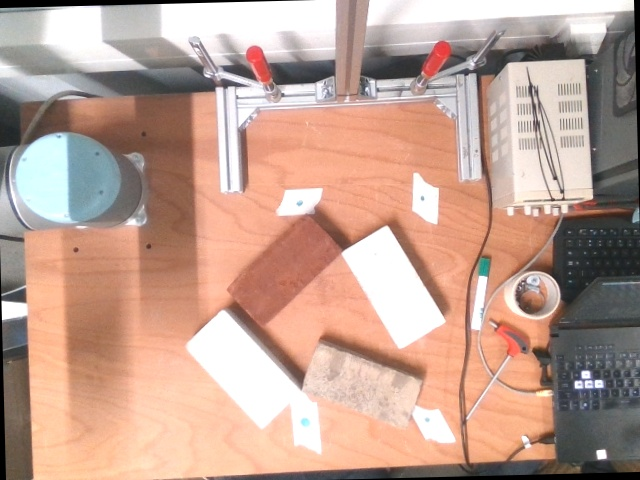brick: (186, 312, 298, 425), (229, 218, 338, 322), (346, 228, 442, 344), (303, 346, 418, 426)
